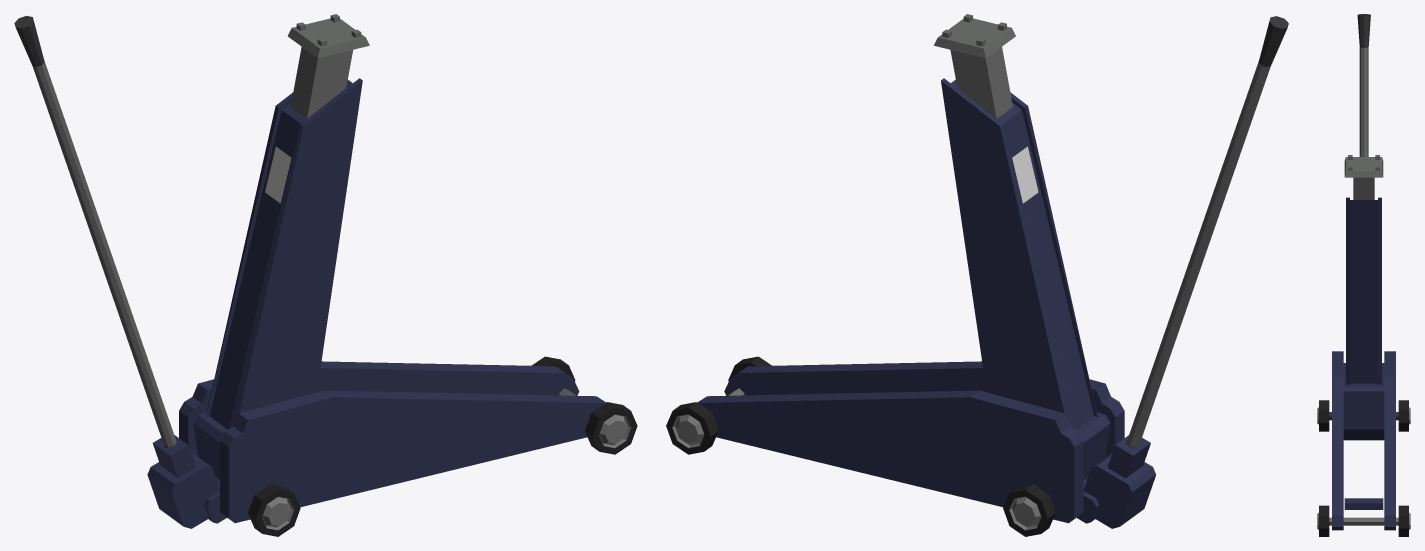
The model's file is SM_LiftTool_01.glb.
The picture shows the model from 3 angles, left to right: view 1: azimuth 30°, elevation 25°; view 2: azimuth 150°, elevation 25°; view 3: azimuth 270°, elevation 25°; orthographic projection. The views are drawn at different scales.
Parts seen in each view (by area): view 1: SM_LiftTool_01; view 2: SM_LiftTool_01; view 3: SM_LiftTool_01.
Part boxes in pixels (box(x1,y1,x2,y2)): SM_LiftTool_01: box(14, 14, 637, 536); SM_LiftTool_01: box(666, 14, 1288, 536); SM_LiftTool_01: box(1317, 14, 1410, 536).
Bounding box in the file's own units: 1.51 × 1.34 × 0.3231.
1 material, 1 textured.
